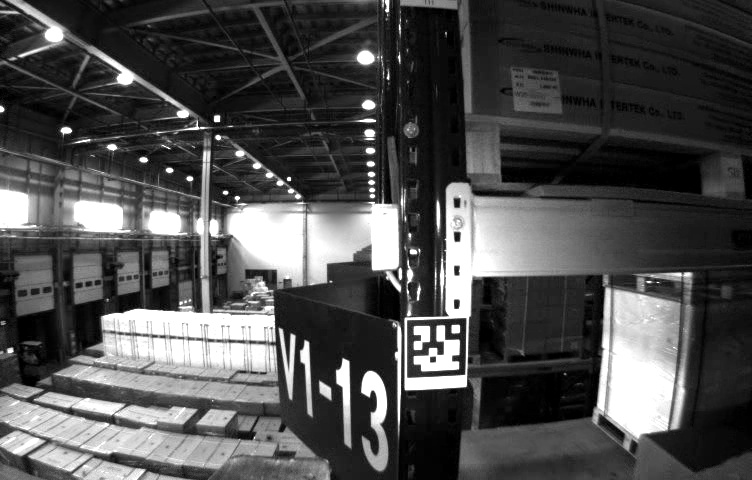True Barcode: (509, 63, 565, 115)
